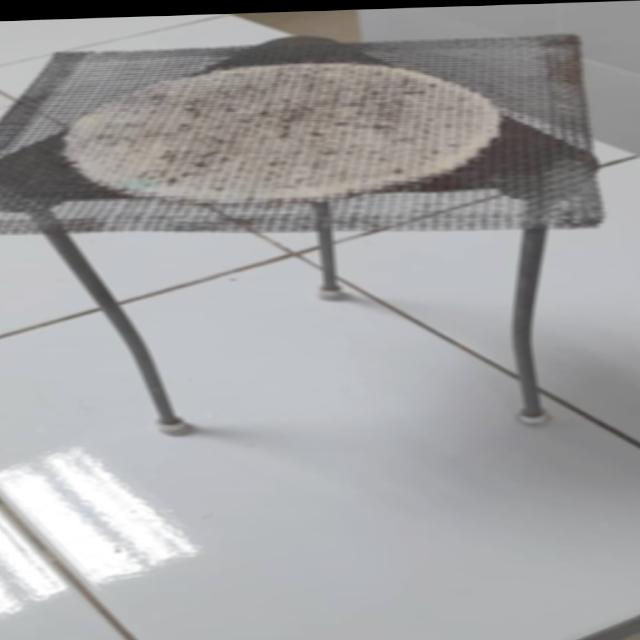Stand: (0, 20, 640, 448)
